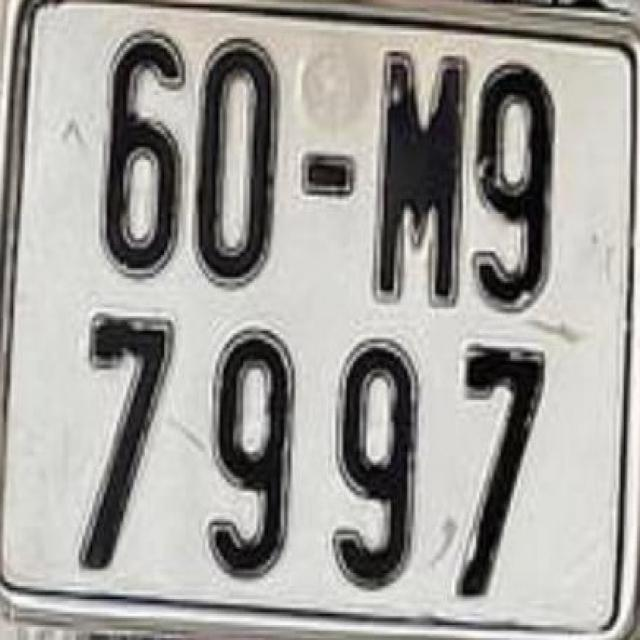0: (190, 30, 284, 288)
6: (98, 28, 186, 279)
7: (72, 303, 178, 579), (446, 335, 550, 605)
9: (199, 320, 297, 586), (324, 332, 422, 596), (468, 53, 562, 314)
M: (364, 24, 468, 311)
